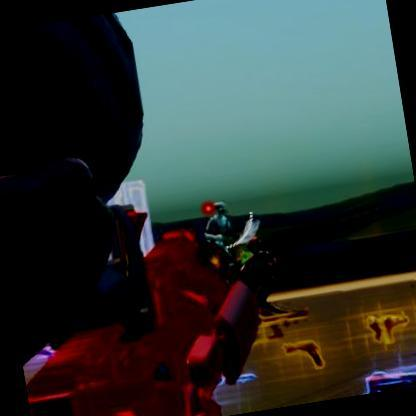person: (197, 204, 233, 276), (246, 238, 284, 304)
